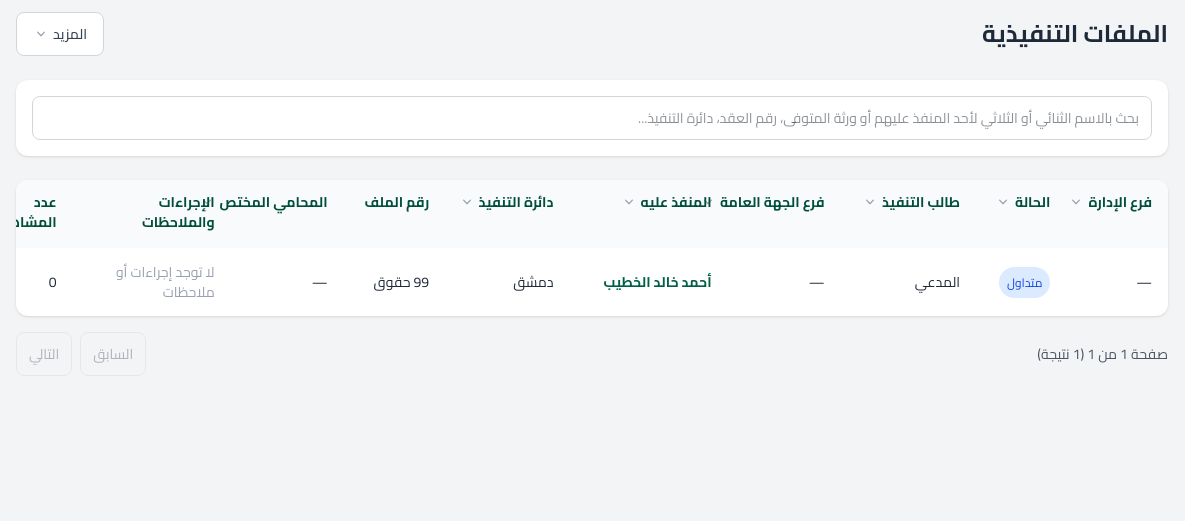
Test: DocumentsList › يغلق قائمة فلتر العمود بمفتاح Escape دون تطبيق التغيير
Click the button with aria-label "فلترة الحالة" at (1023, 214), box [995,192,1050,236]
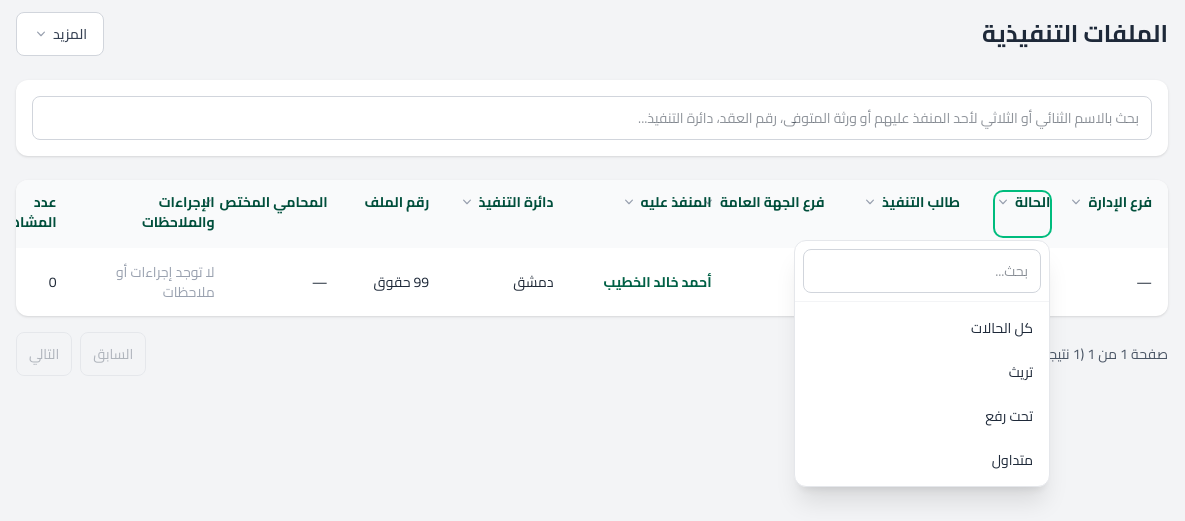
Check: the menu named "فلترة الحالة" is shown, box [794,240,1050,487]
Press Escape
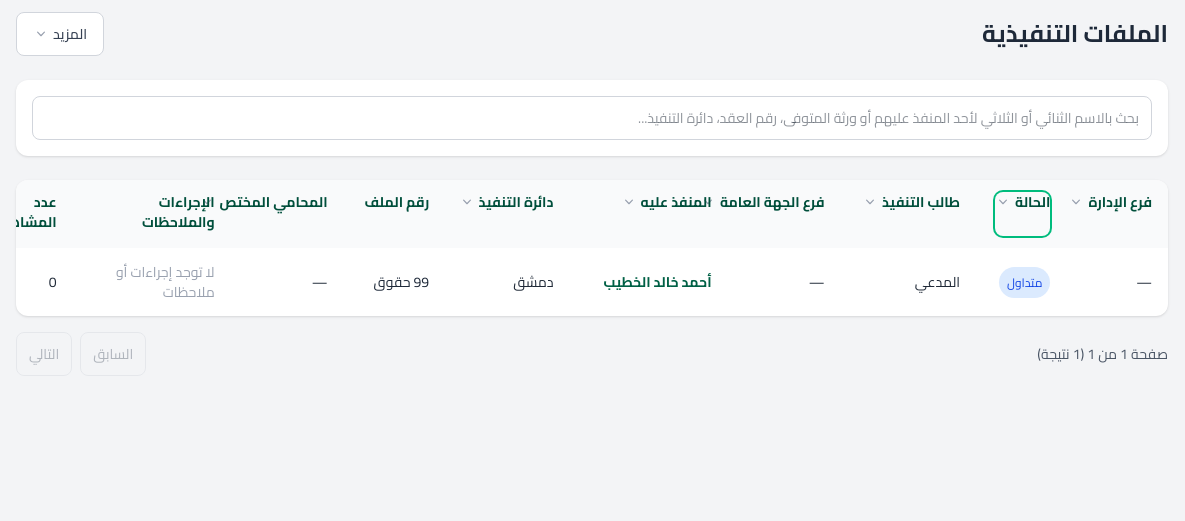
Check: the menu is gone
